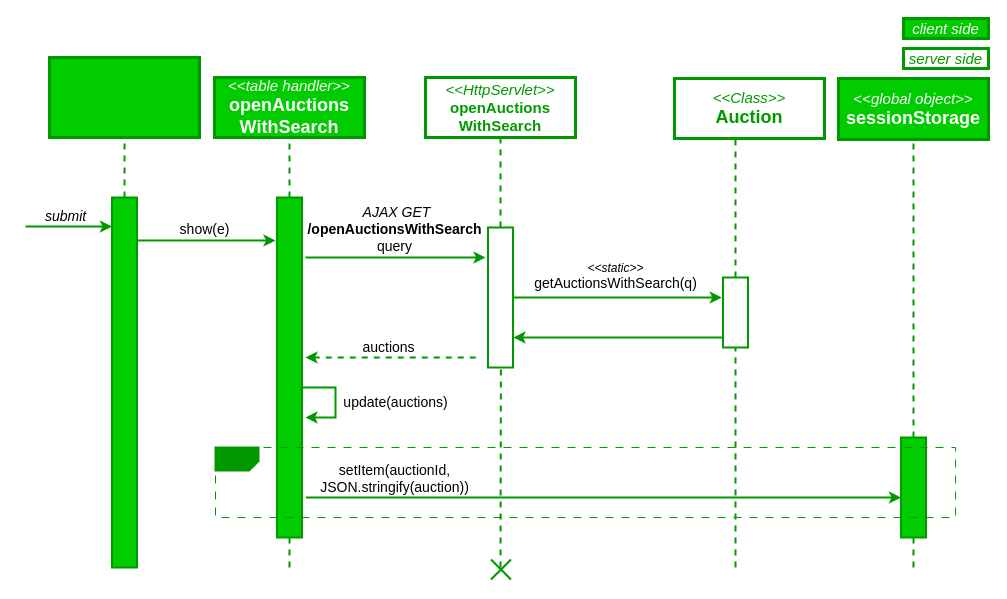
The diagram is 1007 pixels wide and 599 high, and some of its shapes have lost their labels. Here are the shapes that lost their labels. From the top down, the centre of each, then its label:
At point 124,97: "<<form submit>> home.html buy.js".
At point 236,458: "loop".
